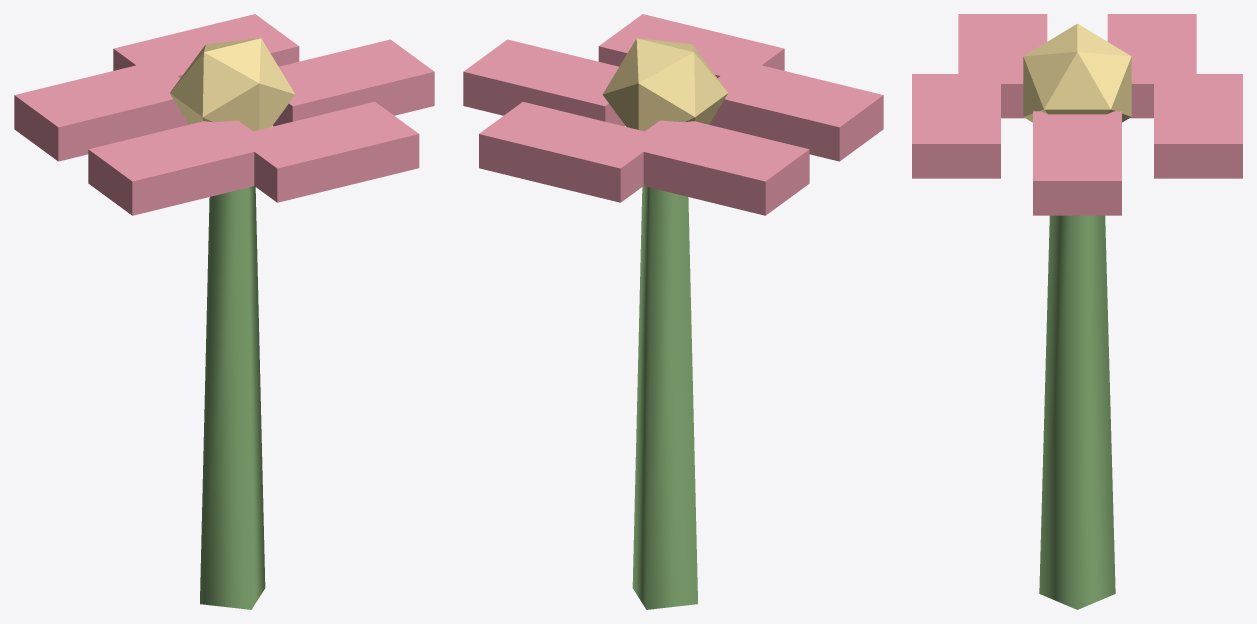
The model's file is flower_0.glb.
3 renders of one model, left to right at view 1: azimuth 30°, elevation 25°; view 2: azimuth 150°, elevation 25°; view 3: azimuth 270°, elevation 25°, orthographic.
Visible parts, largest first — view 1: flower_0; view 2: flower_0; view 3: flower_0.
Boxes of the visible parts, x1,y1,x2,y2 form: flower_0: [14, 14, 434, 609]; flower_0: [463, 14, 883, 609]; flower_0: [912, 14, 1242, 609].
Size of the model in its own units: 0.3109 by 0.4825 by 0.2602.
